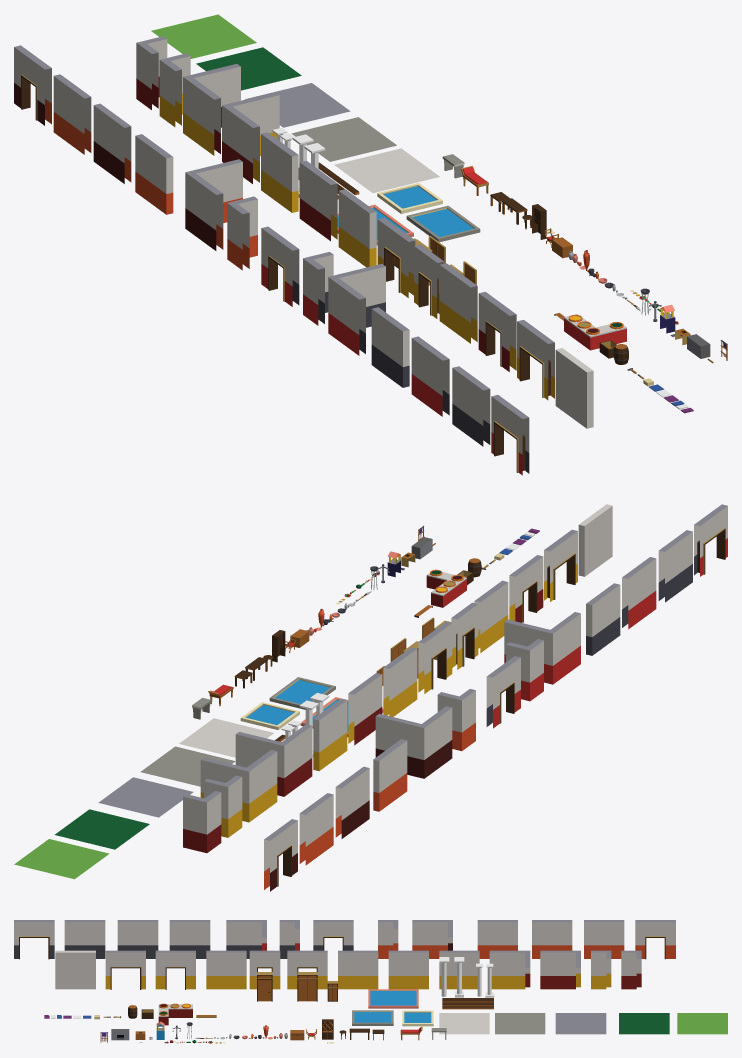
File: ModularRooms.dae
3 renders of one model, top to bottom at view 1: azimuth 30°, elevation 25°; view 2: azimuth 150°, elevation 25°; view 3: azimuth 270°, elevation 25°, orthographic. The views are drawn at different scales.
Parts seen in each view (by area): view 1: Parede_Canto_TipoDOIS_v_C, Parede_Canto_TipoDOIS_v_B, Parede_Canto_TipoUM, Parede_Canto_TipoDOIS, Piso_5x5_TipoUM, Grama_TipoDOIS, Piso_5x5_TipoTRES, Parede_BlocoCompleto, Parede_v_B, Parede_v_C, Parede_SemLaterais_TipoDOIS_v_C, Parede_SemLaterais_TipoDOIS_v_B (+22 smaller); view 2: Parede_Canto_TipoDOIS_v_B, Parede_Canto_TipoDOIS, Parede_Canto_TipoDOIS_v_C, Parede_Canto_TipoUM, Parede_Canto_TipoQUATRO, Grama_TipoUM, Grama_TipoDOIS, Piso_5x5_TipoDOIS, Parede_v_C, Parede, Parede_BlocoCompleto, Parede_v_B (+22 smaller); view 3: Parede_SemLaterais_TipoDOIS, Parede_BlocoCompleto, Parede_SemLaterais_TipoUM, Parede_UmaLateral, Parede_Canto_TipoUM, Parede_Canto_TipoDOIS, Parede_SemLaterais_TipoDOIS_v_B, Parede_v_C, Parede_SemLaterais_TipoUM_v_C, Parede_SemLaterais_TipoDOIS_v_C, Parede_v_B, Parede_Canto_TipoDOIS_v_B (+31 smaller).
Part boxes in pixels (x1=…): Parede_Canto_TipoDOIS_v_C: x1=328, y1=264, x2=385, y2=355; Parede_Canto_TipoDOIS_v_B: x1=185, y1=159, x2=242, y2=250; Parede_Canto_TipoUM: x1=183, y1=64, x2=240, y2=155; Parede_Canto_TipoDOIS: x1=222, y1=92, x2=279, y2=183; Piso_5x5_TipoUM: x1=334, y1=148, x2=439, y2=192; Grama_TipoDOIS: x1=151, y1=14, x2=256, y2=58; Piso_5x5_TipoTRES: x1=291, y1=117, x2=396, y2=161; Parede_BlocoCompleto: x1=555, y1=348, x2=593, y2=428; Parede_v_B: x1=135, y1=134, x2=173, y2=214; Parede_v_C: x1=371, y1=307, x2=409, y2=387; Parede_SemLaterais_TipoDOIS_v_C: x1=452, y1=366, x2=490, y2=446; Parede_SemLaterais_TipoDOIS_v_B: x1=53, y1=74, x2=91, y2=154; Parede_Canto_TipoDOIS_v_B: x1=375, y1=706, x2=452, y2=778; Parede_Canto_TipoDOIS: x1=235, y1=724, x2=312, y2=796; Parede_Canto_TipoDOIS_v_C: x1=504, y1=612, x2=580, y2=684; Parede_Canto_TipoUM: x1=200, y1=750, x2=277, y2=822; Parede_Canto_TipoQUATRO: x1=183, y1=791, x2=221, y2=853; Grama_TipoUM: x1=55, y1=809, x2=149, y2=849; Grama_TipoDOIS: x1=14, y1=839, x2=109, y2=879; Piso_5x5_TipoDOIS: x1=98, y1=777, x2=193, y2=817; Parede_v_C: x1=586, y1=583, x2=620, y2=655; Parede: x1=313, y1=698, x2=347, y2=770; Parede_BlocoCompleto: x1=578, y1=504, x2=612, y2=576; Parede_v_B: x1=373, y1=739, x2=407, y2=811; Parede_SemLaterais_TipoDOIS: x1=206, y1=950, x2=246, y2=989; Parede_BlocoCompleto: x1=55, y1=950, x2=95, y2=989; Parede_SemLaterais_TipoUM: x1=388, y1=950, x2=428, y2=989; Parede_UmaLateral: x1=338, y1=950, x2=378, y2=989; Parede_Canto_TipoUM: x1=540, y1=950, x2=580, y2=989; Parede_Canto_TipoDOIS: x1=489, y1=950, x2=530, y2=989; Parede_SemLaterais_TipoDOIS_v_B: x1=584, y1=920, x2=624, y2=958; Parede_v_C: x1=169, y1=920, x2=210, y2=958; Parede_SemLaterais_TipoUM_v_C: x1=117, y1=920, x2=158, y2=958; Parede_SemLaterais_TipoDOIS_v_C: x1=64, y1=920, x2=105, y2=958; Parede_v_B: x1=477, y1=920, x2=517, y2=958; Parede_Canto_TipoDOIS_v_B: x1=412, y1=920, x2=452, y2=958.
Size of the model in its own units: 20.48 by 4.12 by 70.51.
Materials: 1 (1 with a texture image).
